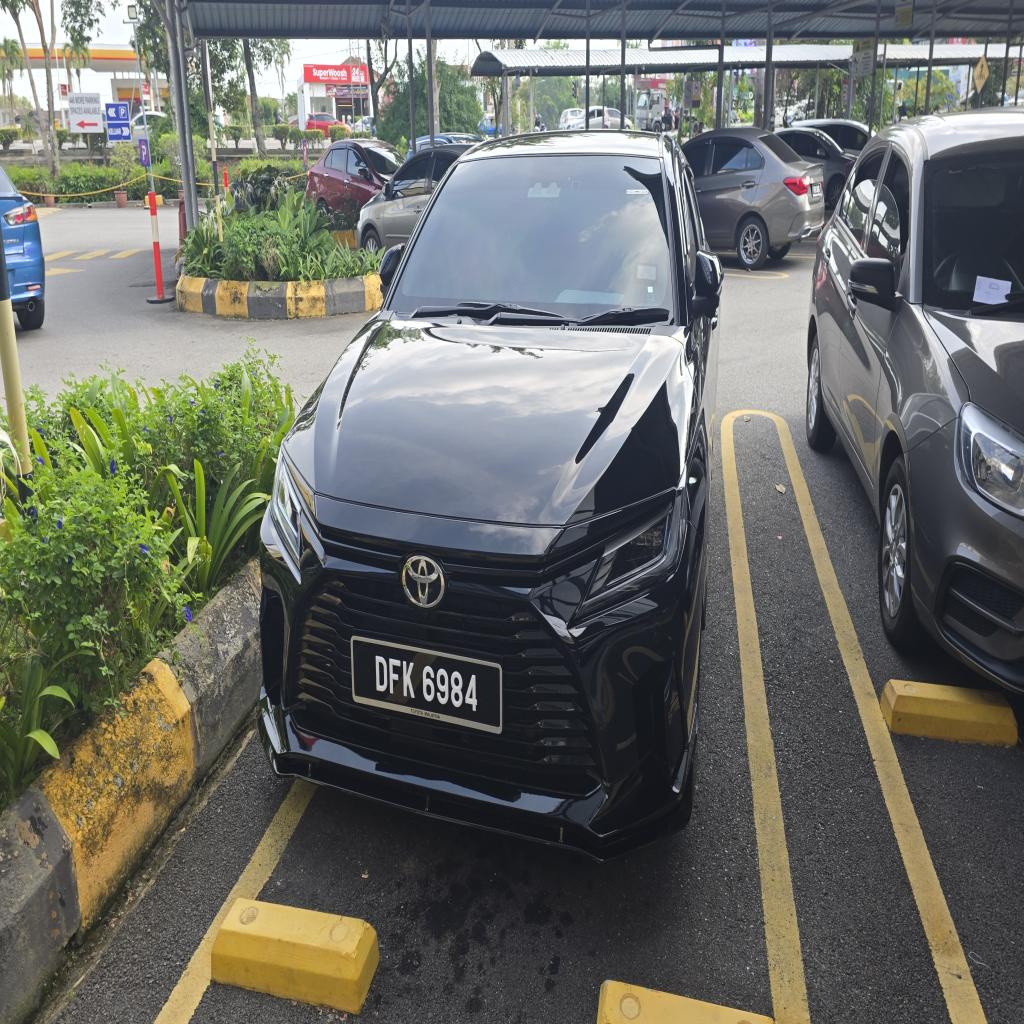car: (260, 132, 722, 858)
car plate: (352, 638, 502, 733)
